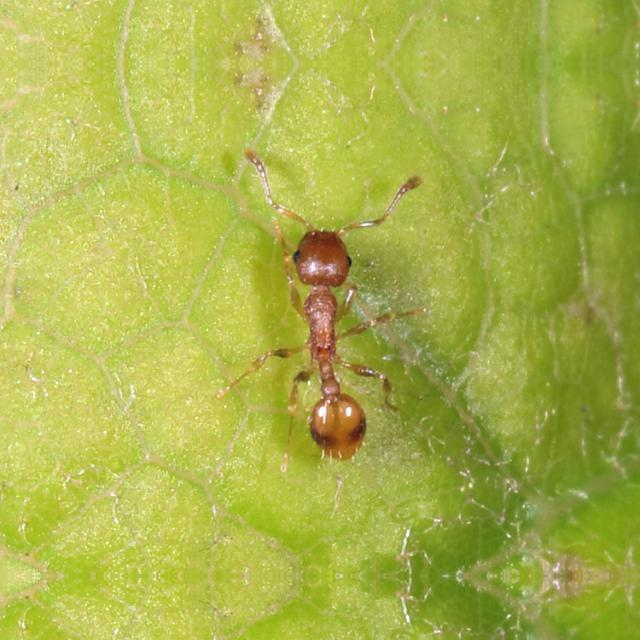Temnothorax: (216, 162, 428, 468)
